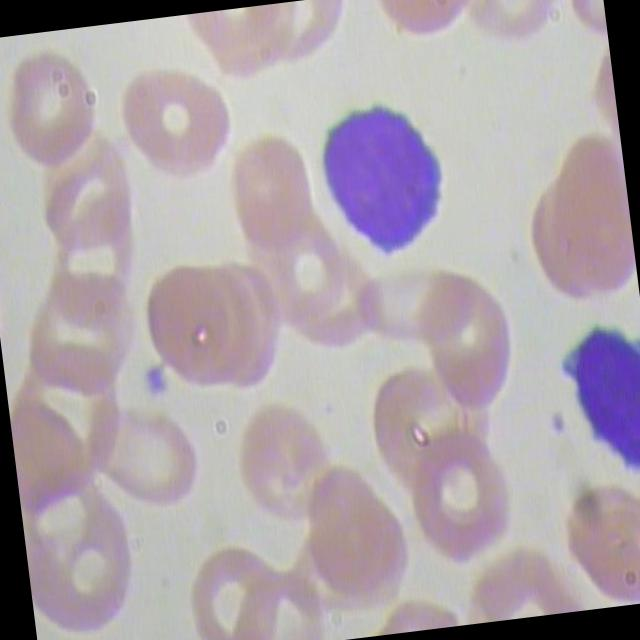Platelets: (136, 357, 174, 405)
RBC: (288, 446, 421, 618), (400, 419, 534, 576), (532, 130, 638, 309), (218, 396, 348, 534), (109, 56, 239, 192), (412, 268, 522, 424), (132, 257, 246, 404), (215, 126, 329, 273), (0, 48, 117, 181), (29, 136, 143, 268)
WBC: (310, 89, 462, 281), (556, 318, 640, 493)
